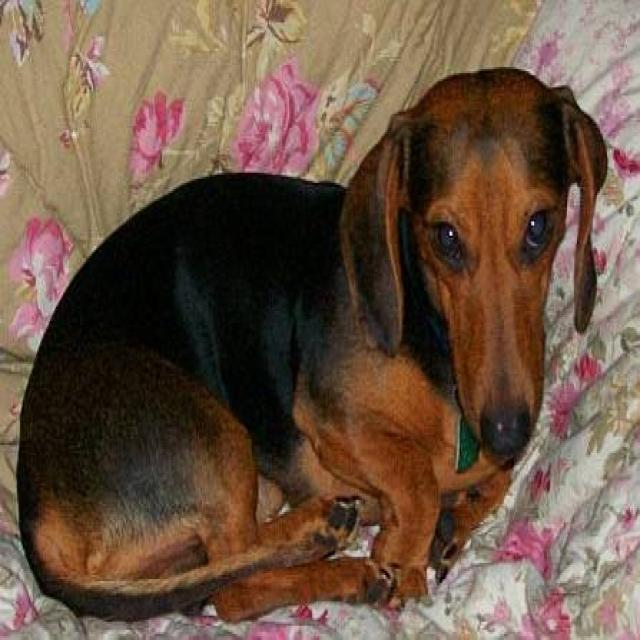dog: (14, 63, 607, 624)
